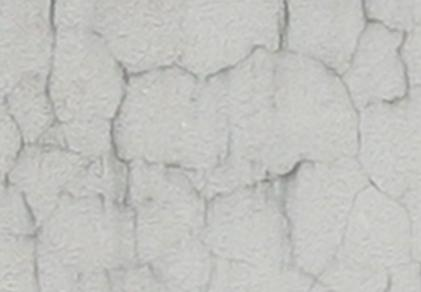fissura: (6, 7, 421, 292)
